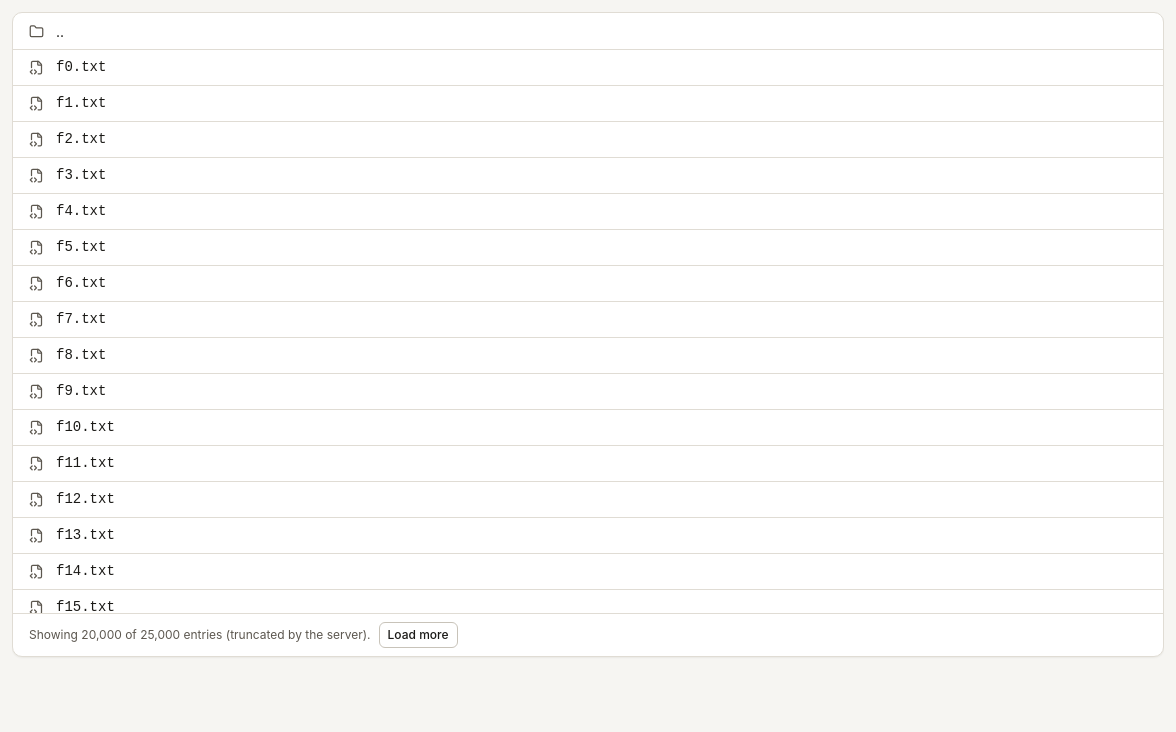
Test: lazy file browser on a 100,000-file repository › shows a truncation hint and loads more when a directory exceeds the page size
Expected: the text "Showing 20,000 of 25,000 entries (truncated by the server)." is shown, [29,626,371,644]
Click the button "Load more": click(418, 635) [379,622,458,648]
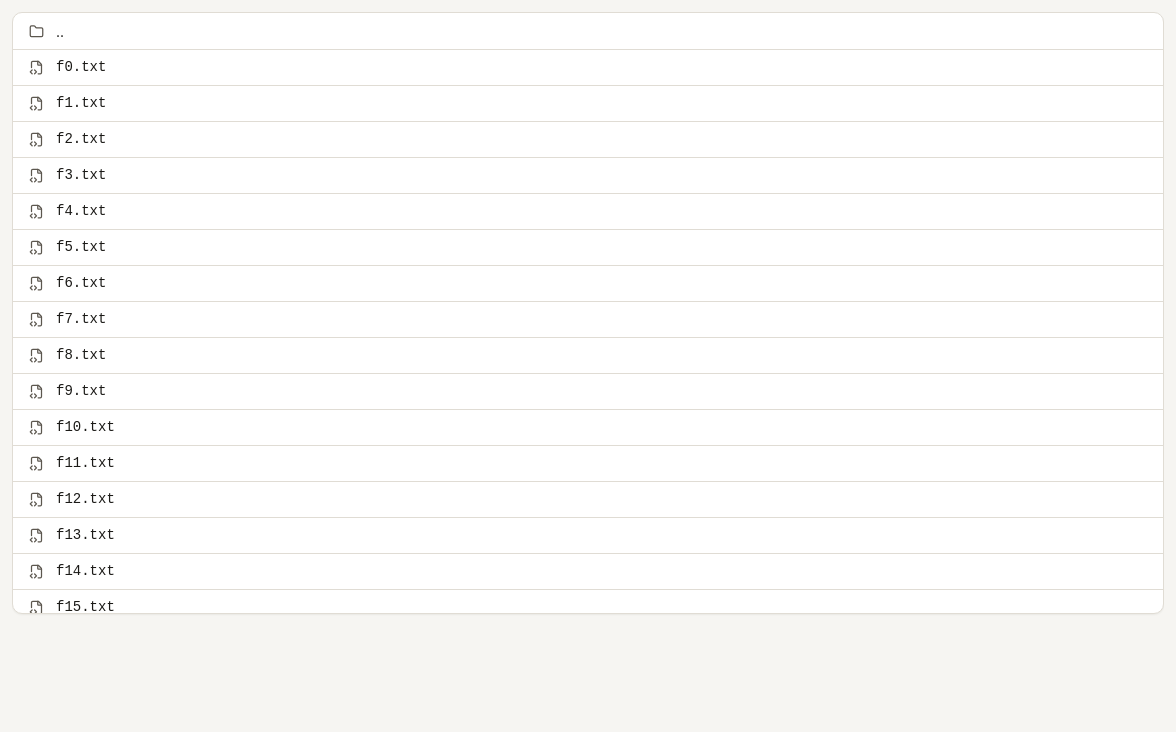
Now the text "Showing 20,000 of" is gone
